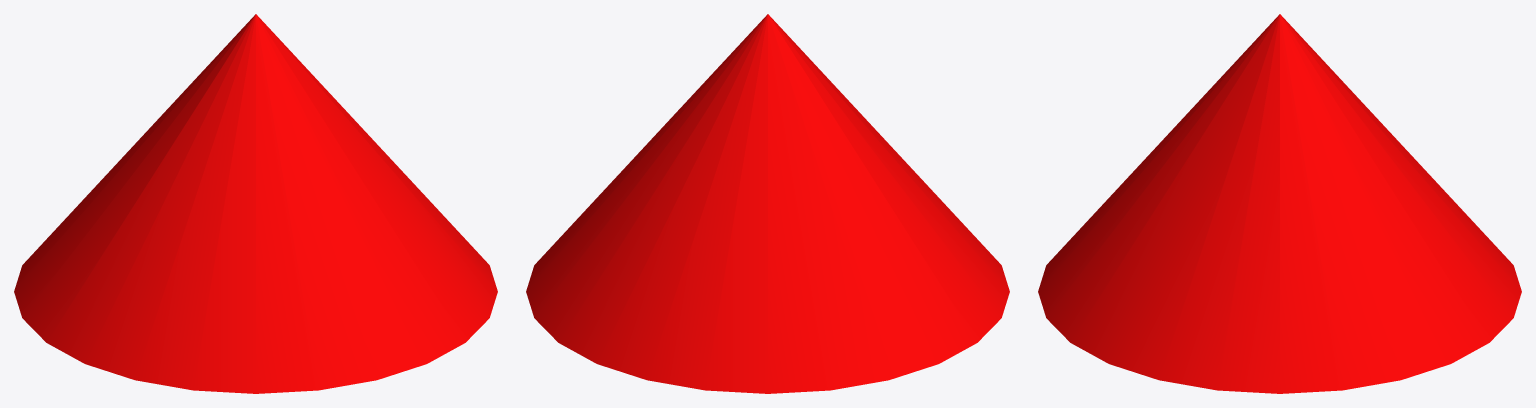
Rendered from cone rouge T.dae.
3 renders of one model, left to right at view 1: azimuth 30°, elevation 25°; view 2: azimuth 150°, elevation 25°; view 3: azimuth 270°, elevation 25°, orthographic.
Parts seen in each view (by area): view 1: SketchUp; view 2: SketchUp; view 3: SketchUp.
Part boxes in pixels (x1,y1,x2,y2): SketchUp: [14, 14, 497, 393]; SketchUp: [526, 14, 1009, 393]; SketchUp: [1038, 14, 1521, 393].
Size of the model in its own units: 9266 by 9266 by 5866.
